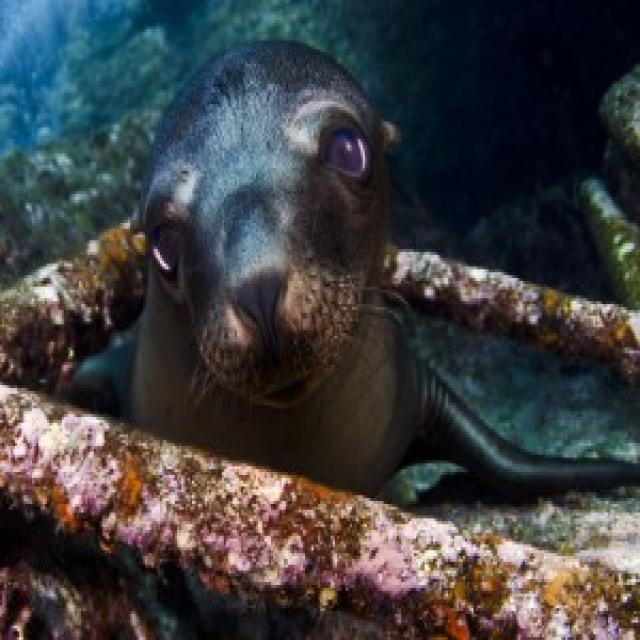Seal: (121, 31, 640, 550)
